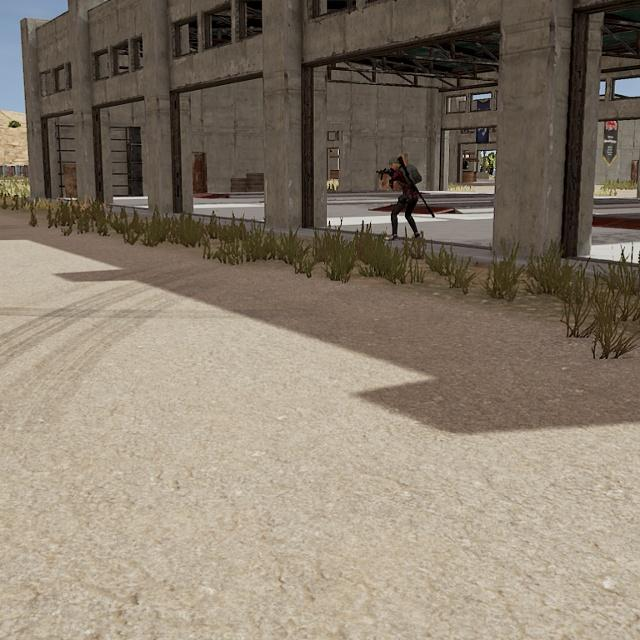head: (389, 155, 402, 172)
people: (385, 155, 422, 244)
